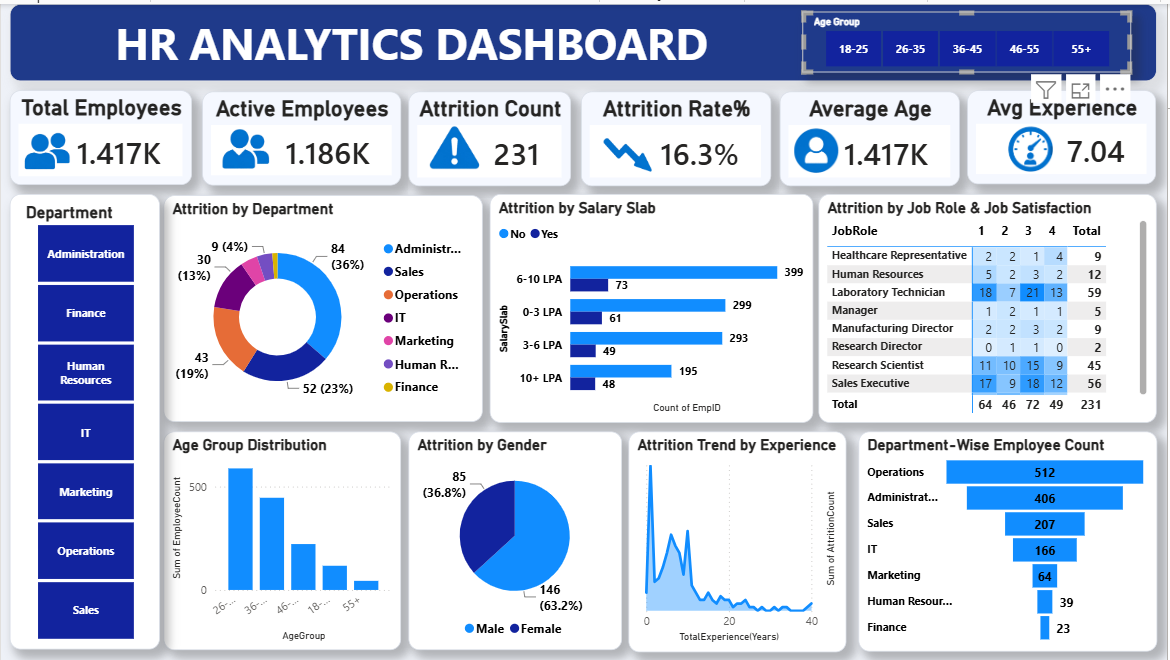

What the dashboard file says about the page in this screenshot:
{"tool":"powerbi","page":{"name":"Page 1","canvas":[1280,720],"ordinal":0},"visuals":[{"type":"textbox","box":[10,0,1259,85],"z":0},{"type":"cardVisual","title":"Total Employees","fields":{"Data":["CountNonNull(Copy of HR_Analytics-4.EmpID)"]},"box":[9.6,94.7,200.3,104.3],"z":1000},{"type":"cardVisual","title":"Active Employees","fields":{"Data":["CountNonNull(Copy of HR_Analytics-4.EmployeeCount)"]},"box":[220.9,96.1,218.2,102.9],"z":2000},{"type":"cardVisual","title":"Attrition Count","fields":{"Data":["Sum(Copy of HR_Analytics-4.AttritionCount)"]},"box":[447.3,96.1,178.4,104.3],"z":3000},{"type":"cardVisual","title":"Attrition Rate%","fields":{"Data":["Copy of HR_Analytics-4.Attrition Rate %"]},"box":[636.7,96.1,208.6,104.3],"z":4000},{"type":"cardVisual","title":"Average Age","fields":{"Data":["CountNonNull(Copy of HR_Analytics-4.EmpID)"]},"box":[854.9,96.1,197.6,104.3],"z":5000},{"type":"cardVisual","title":"Avg Experience","fields":{"Data":["Avg(Copy of HR_Analytics-4.YearsatCompany)"]},"box":[1060.7,94.7,207.2,102.9],"z":6000},{"type":"image","box":[466.6,126.2,61.7,61.7],"z":7000},{"type":"image","box":[644.9,140,86.4,48],"z":8000},{"type":"image","box":[236,133.1,68.6,49.4],"z":9000},{"type":"image","box":[19.2,133.1,63.1,49.4],"z":10000},{"type":"image","box":[1060.7,124.9,131.7,64.5],"z":11000},{"type":"image","box":[850.8,124.9,90.6,64.5],"z":12000},{"type":"donutChart","title":"Attrition by Department","fields":{"Category":["Copy of HR_Analytics-4.Department"],"Y":["Sum(Copy of HR_Analytics-4.AttritionCount)"]},"box":[179,210,350,249],"z":13000},{"type":"clusteredBarChart","title":"Attrition by Salary Slab","fields":{"Category":["Copy of HR_Analytics-4.SalarySlab"],"Y":["CountNonNull(Copy of HR_Analytics-4.EmpID)"],"Series":["Copy of HR_Analytics-4.Attrition"]},"box":[537,209,355,251.1],"z":14000},{"type":"pivotTable","title":"Attrition by Job Role & Job Satisfaction","fields":{"Rows":["Copy of HR_Analytics-4.JobRole"],"Values":["Sum(Copy of HR_Analytics-4.AttritionCount)"],"Columns":["Copy of HR_Analytics-4.JobSatisfaction"]},"box":[898,209,371,251],"z":15000},{"type":"columnChart","title":"Age Group Distribution","fields":{"Category":["Copy of HR_Analytics-4.AgeGroup"],"Y":["Sum(Copy of HR_Analytics-4.EmployeeCount)"]},"box":[179,469,261,240.1],"z":16000},{"type":"pieChart","title":"Attrition by Gender","fields":{"Category":["Copy of HR_Analytics-4.Gender"],"Y":["Sum(Copy of HR_Analytics-4.AttritionCount)"]},"box":[448,469,234,240],"z":17000},{"type":"areaChart","title":"Attrition Trend by Experience","fields":{"Category":["Copy of HR_Analytics-4.TotalExperience(Years)"],"Y2":["Sum(Copy of HR_Analytics-4.AttritionCount)"]},"box":[689,469,239,242],"z":18000},{"type":"funnel","title":"Department-Wise Employee Count ","fields":{"Category":["Copy of HR_Analytics-4.Department"],"Y":["CountNonNull(Copy of HR_Analytics-4.EmpID)"]},"box":[941.3,469.3,328,241.5],"z":19000},{"type":"slicer","fields":{"Values":["Copy of HR_Analytics-4.Department"]},"box":[9,209,165,500],"z":20000},{"type":"slicer","fields":{"Values":["Copy of HR_Analytics-4.AgeGroup"]},"box":[879.6,8.2,360.9,67.2],"z":21000}]}

Visuals, with their boxes in screenshot pixels (x1, y1, x2, y2), scaled from the page's 1280x720 canvas onto the 1170x660 screenshot:
textbox: Rect(9, 0, 1160, 78)
"Total Employees" cardVisual: Rect(9, 87, 192, 182)
"Active Employees" cardVisual: Rect(202, 88, 401, 182)
"Attrition Count" cardVisual: Rect(409, 88, 572, 184)
"Attrition Rate%" cardVisual: Rect(582, 88, 773, 184)
"Average Age" cardVisual: Rect(781, 88, 962, 184)
"Avg Experience" cardVisual: Rect(970, 87, 1159, 181)
image: Rect(427, 116, 483, 172)
image: Rect(589, 128, 668, 172)
image: Rect(216, 122, 278, 167)
image: Rect(18, 122, 75, 167)
image: Rect(970, 114, 1090, 174)
image: Rect(778, 114, 860, 174)
"Attrition by Department" donutChart: Rect(164, 192, 484, 421)
"Attrition by Salary Slab" clusteredBarChart: Rect(491, 192, 815, 422)
"Attrition by Job Role & Job Satisfaction" pivotTable: Rect(821, 192, 1160, 422)
"Age Group Distribution" columnChart: Rect(164, 430, 402, 650)
"Attrition by Gender" pieChart: Rect(410, 430, 623, 650)
"Attrition Trend by Experience" areaChart: Rect(630, 430, 848, 652)
"Department-Wise Employee Count " funnel: Rect(860, 430, 1160, 652)
slicer - Copy of HR_Analytics-4.Department: Rect(8, 192, 159, 650)
slicer - Copy of HR_Analytics-4.AgeGroup: Rect(804, 8, 1134, 69)
